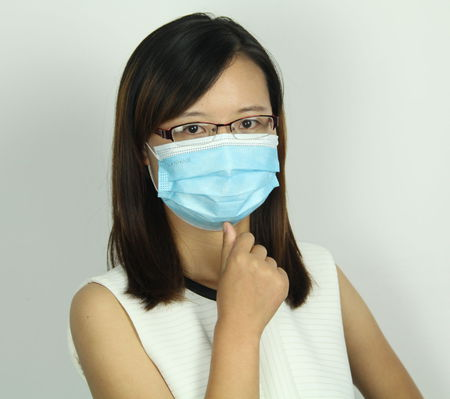face_mask: (148, 58, 274, 220)
